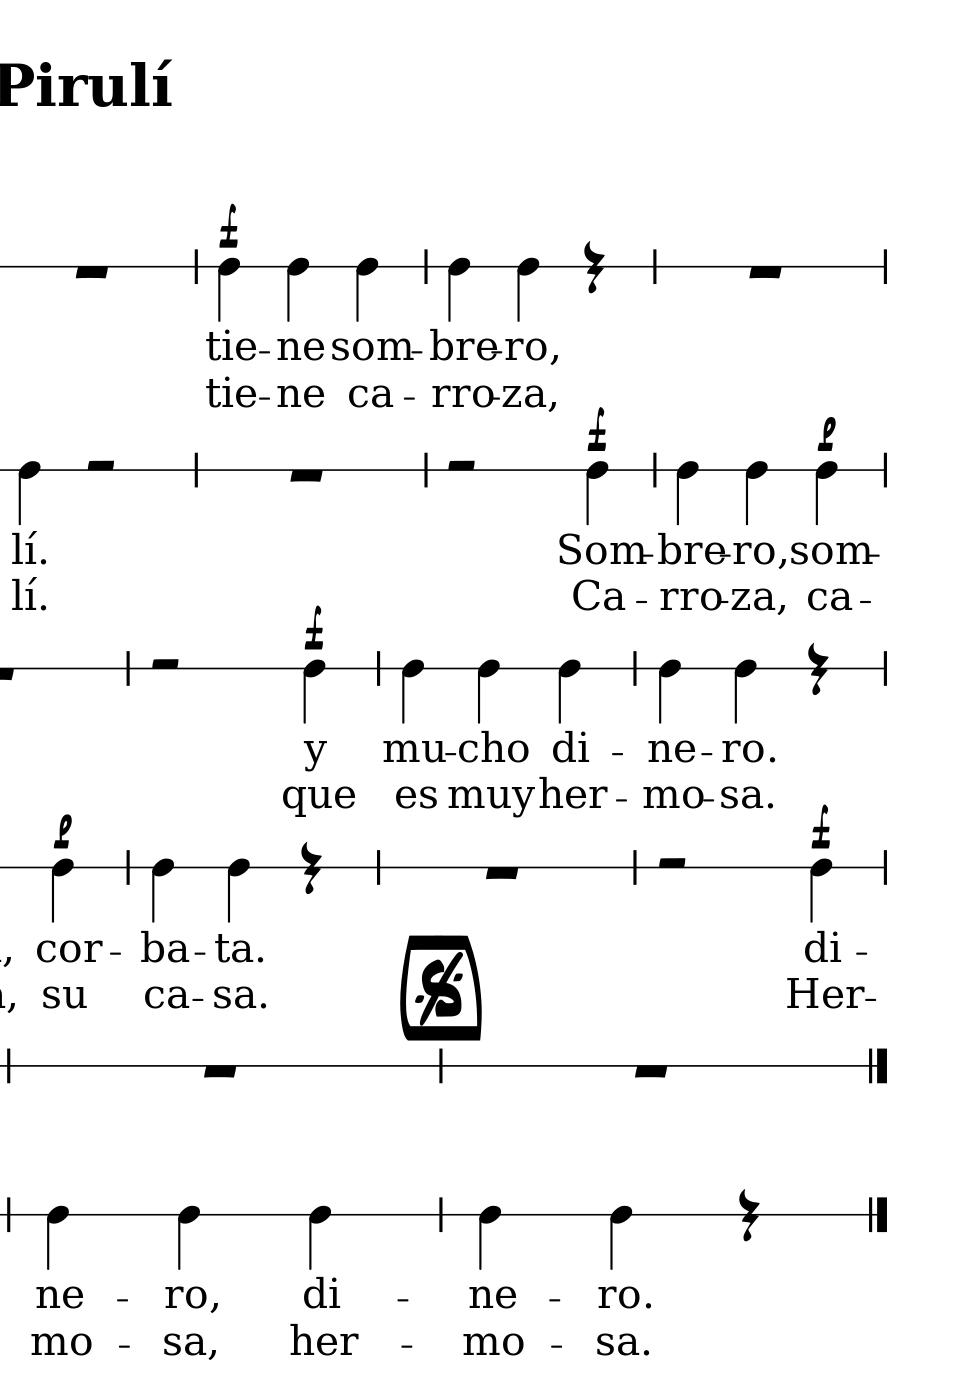4_4: (607, 1204, 634, 1271), (175, 1203, 202, 1271), (43, 1205, 70, 1271), (514, 255, 540, 323), (49, 856, 74, 925), (476, 1203, 502, 1271), (555, 659, 581, 724), (399, 657, 424, 725), (731, 657, 756, 725), (225, 856, 250, 924), (148, 856, 174, 923), (307, 1204, 332, 1270), (284, 255, 309, 323), (301, 657, 326, 726), (657, 657, 681, 726), (215, 256, 240, 323), (353, 256, 378, 323), (813, 459, 838, 527), (808, 856, 833, 924), (673, 459, 699, 524), (445, 256, 470, 322), (16, 458, 40, 525), (475, 657, 500, 724), (743, 458, 767, 527), (584, 460, 609, 525)
Coda: (413, 950, 469, 1024)
Rests1: (482, 863, 523, 883), (70, 262, 113, 281), (629, 1062, 672, 1081), (743, 262, 786, 281), (284, 466, 327, 485), (199, 1062, 241, 1080)
Rests2: (147, 654, 183, 674), (654, 852, 692, 871), (83, 456, 119, 474), (444, 456, 482, 472)
Rests4: (298, 840, 323, 896), (805, 641, 829, 697), (737, 1187, 762, 1243), (581, 239, 605, 296)
f: (584, 407, 609, 454), (216, 203, 240, 250), (302, 606, 326, 652), (808, 805, 832, 852)
p: (815, 416, 837, 452), (52, 813, 73, 850)
